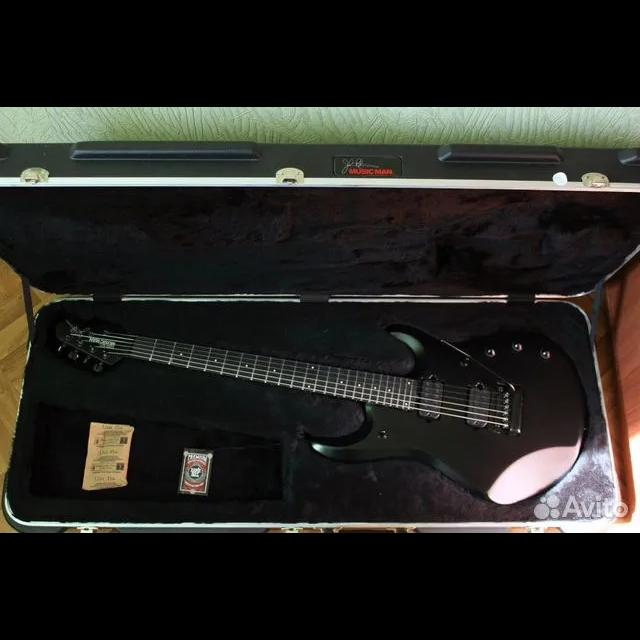Electric-Guitar: (52, 320, 584, 502)
